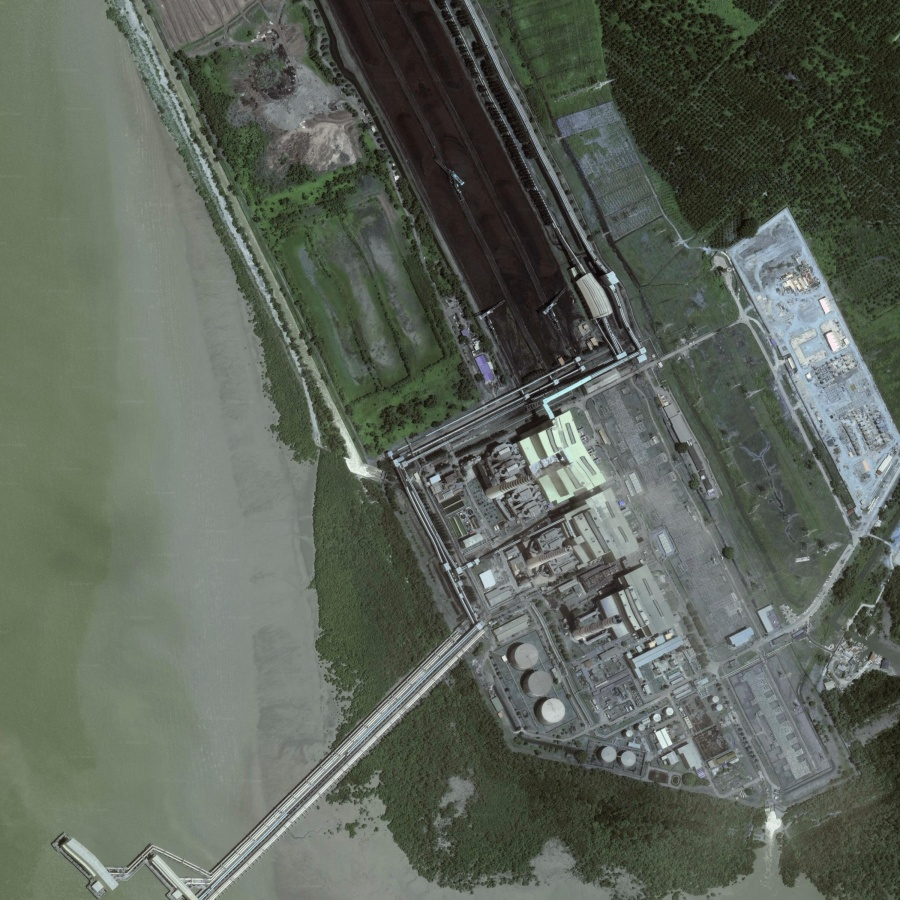PowerPlant: (410, 425, 775, 787)
